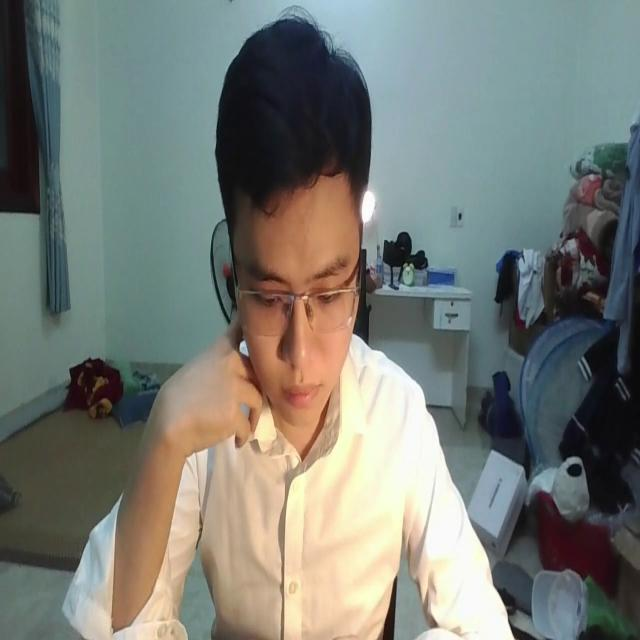student: (54, 10, 513, 640)
